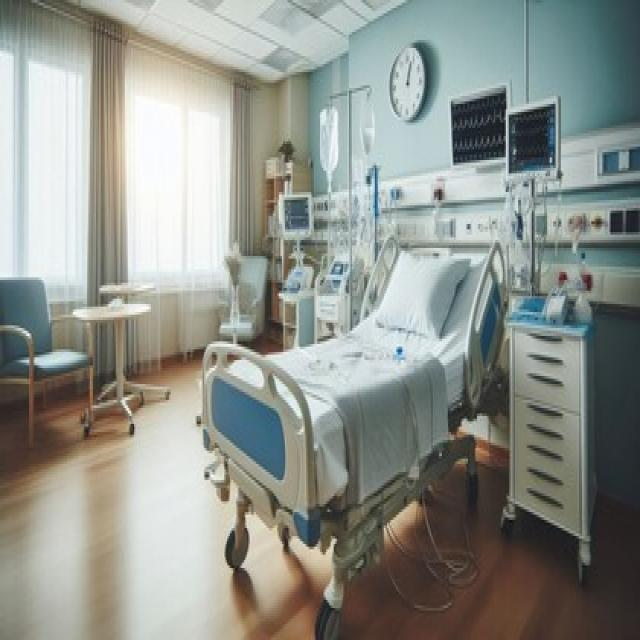Monitor: (500, 82, 564, 190), (444, 90, 510, 167), (274, 182, 322, 242)
Saline Stand: (309, 79, 402, 335)
bed: (197, 232, 508, 637)
chair: (0, 271, 98, 467)
stool: (80, 283, 167, 466)
